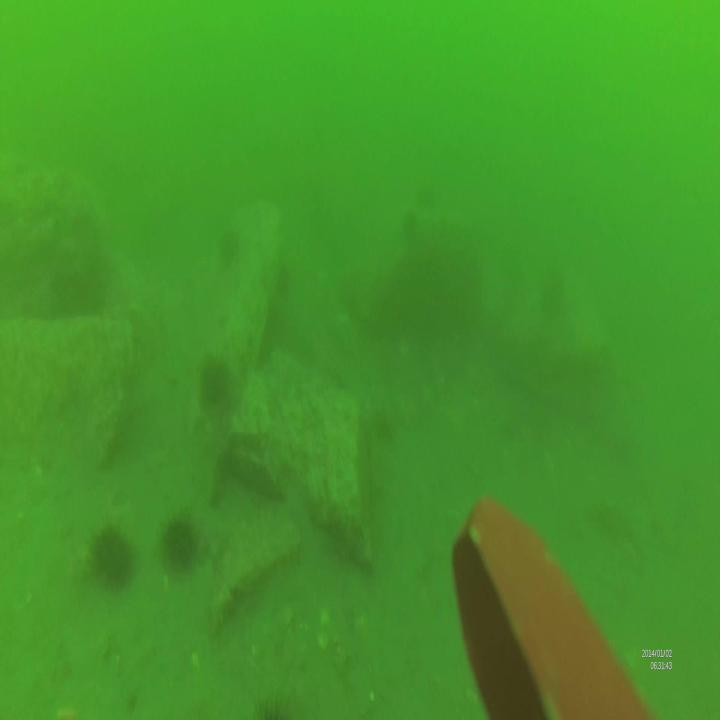echinus: (85, 520, 134, 587), (157, 512, 196, 572), (197, 354, 229, 409)
